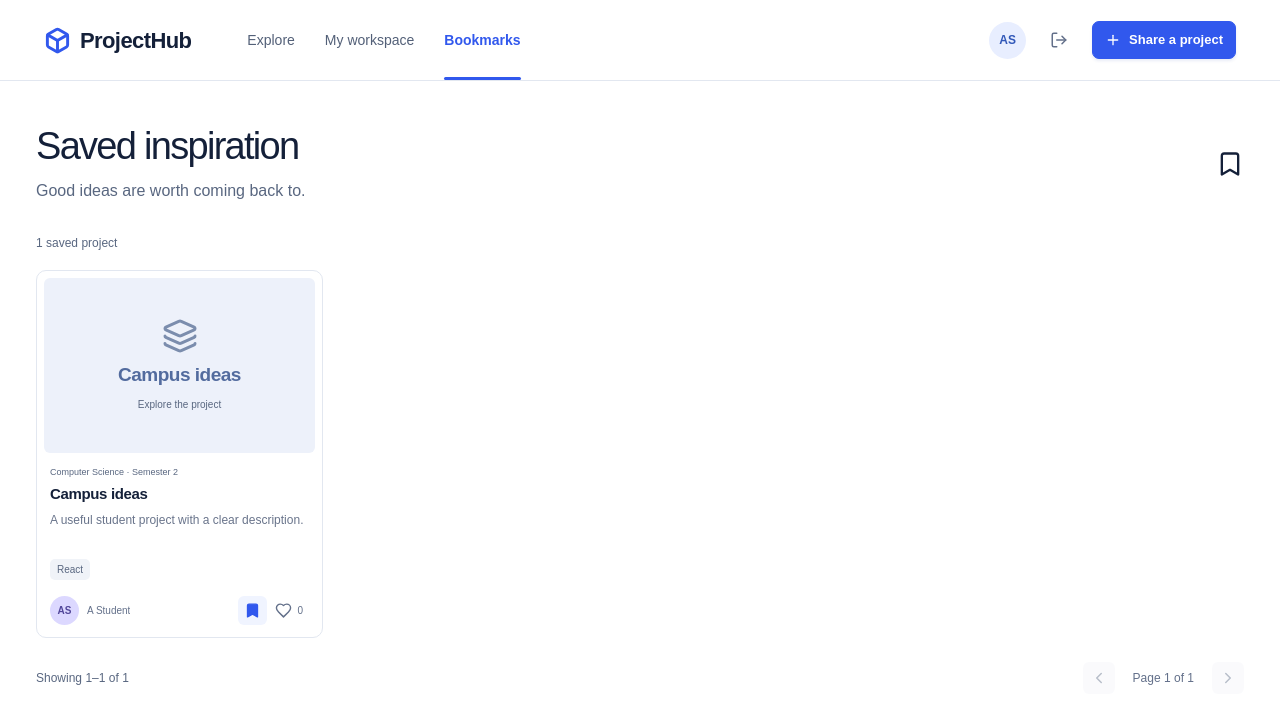
failed bookmark refill stays recoverable and never invents an empty collection
The image size is (1280, 720).
Click the button named "Unsave Campus ideas" at x=253, y=610, box [238,596,267,625]
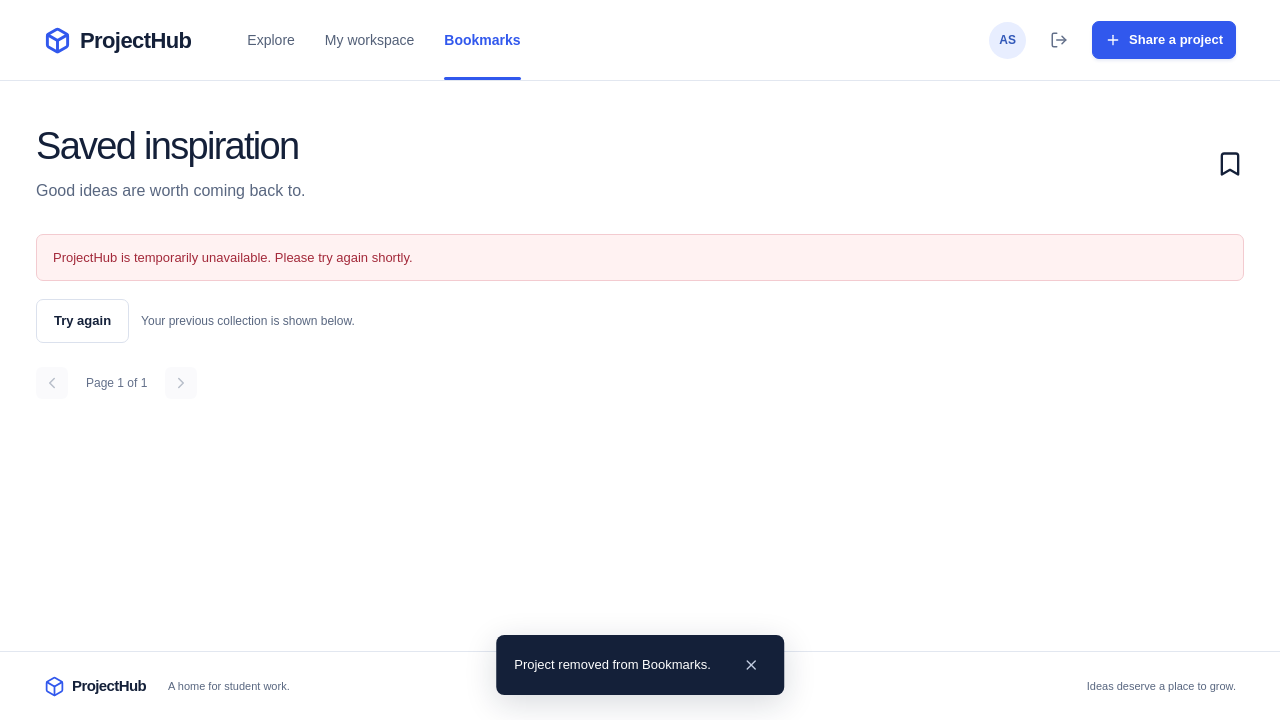
expect the text "Your collection is waiting." is not shown: met
expect the message "ProjectHub is temporarily unavailable. Please try again shortly." is shown: met, box [36,234,1244,281]
Click the button "Try again" at x=83, y=321, box [36,299,129,343]
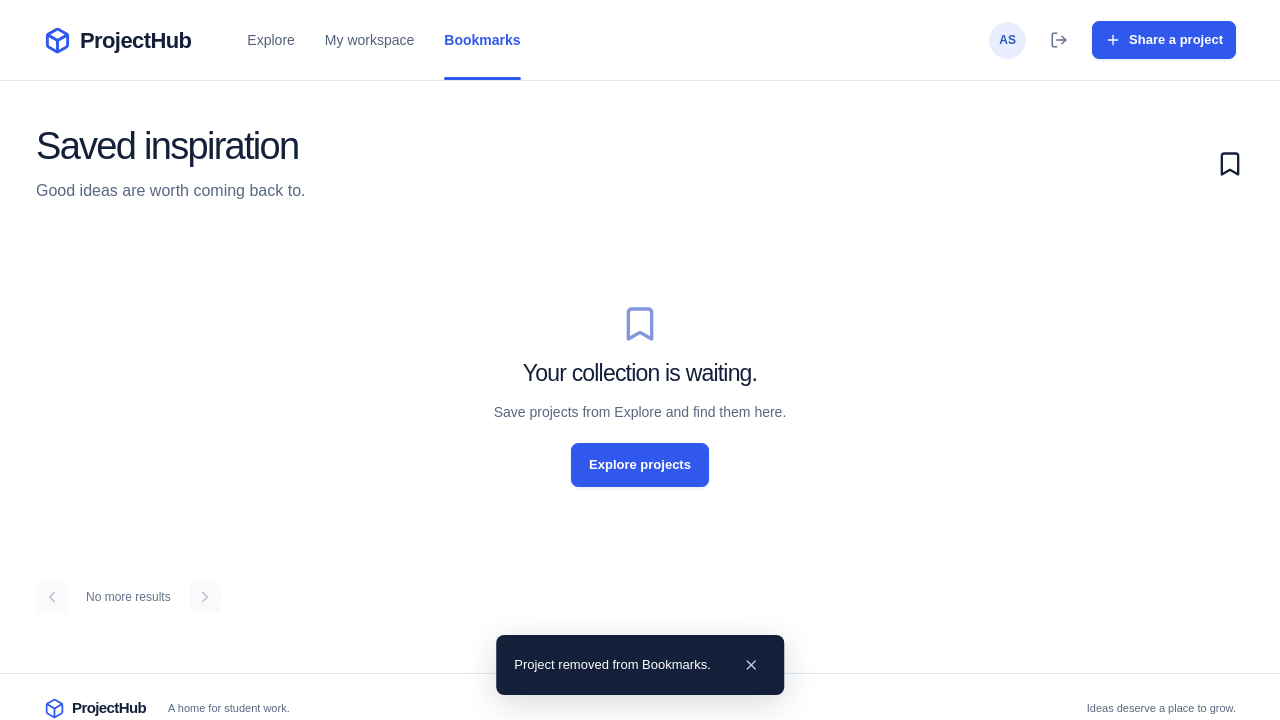
expect the heading "Your collection is waiting." is shown: met, box [523,360,757,386]
